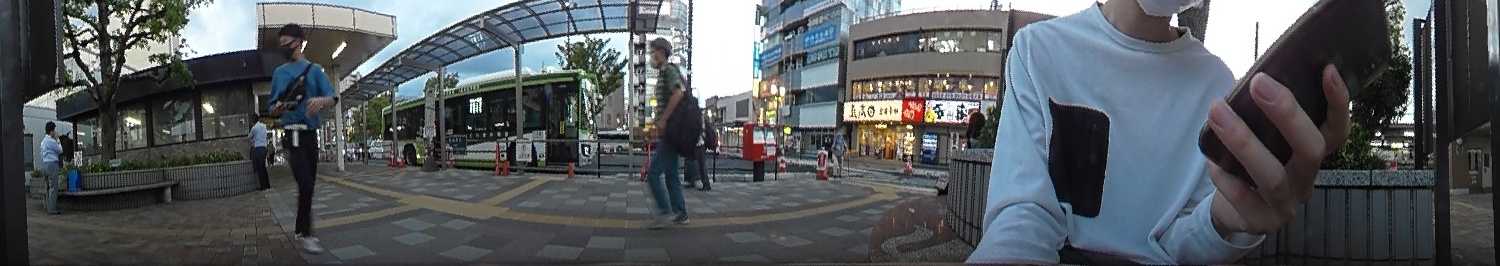difficult_person: (831, 128, 847, 177)
person: (274, 22, 329, 255), (642, 36, 692, 227), (35, 118, 66, 212), (244, 113, 271, 194)
